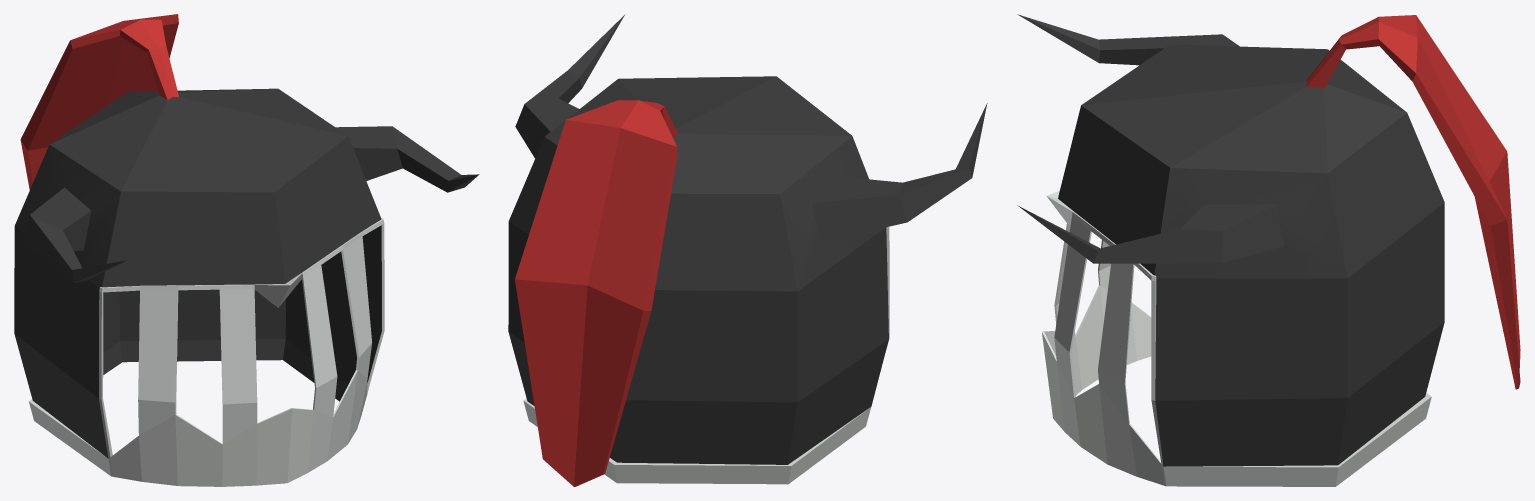
The model's file is Helmet_03.fbx.
The picture shows the model from 3 angles, left to right: view 1: azimuth 30°, elevation 25°; view 2: azimuth 150°, elevation 25°; view 3: azimuth 270°, elevation 25°; orthographic projection. The views are drawn at different scales.
Parts seen in each view (by area): view 1: Armor02.005; view 2: Armor02.005; view 3: Armor02.005.
Part boxes in pixels (x1,y1,x2,y2): Armor02.005: (14,14,479,486); Armor02.005: (508,15,987,486); Armor02.005: (1017,14,1520,486).
Size of the model in its own units: 65 by 56.55 by 65.17.
